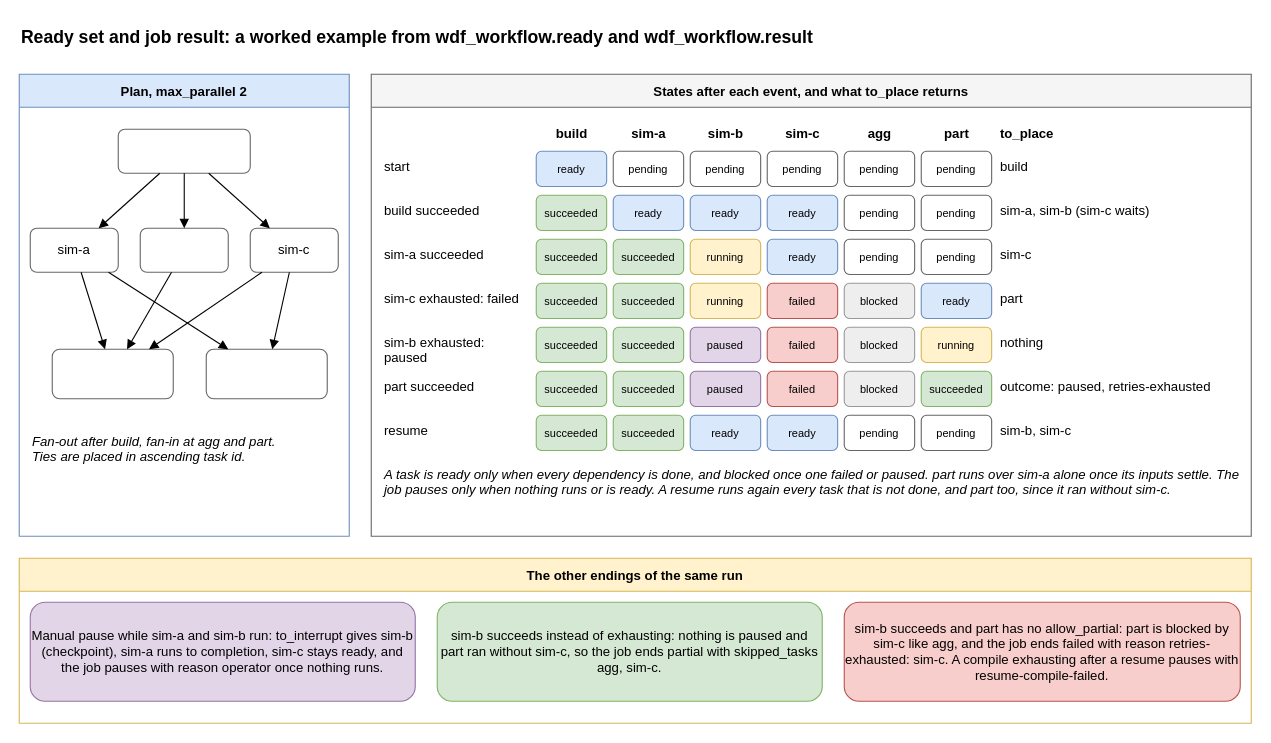
The diagram is 1271 pixels wide and 743 high, and some of its shapes have lost their labels. Here are the shapes that lost their labels. From the top down, the centre of each, then its label:
At point 183,150: "build (compile)".
At point 183,249: "sim-b checkpoint".
At point 112,373: "agg waits for all".
At point 266,373: "part allow_partial".
